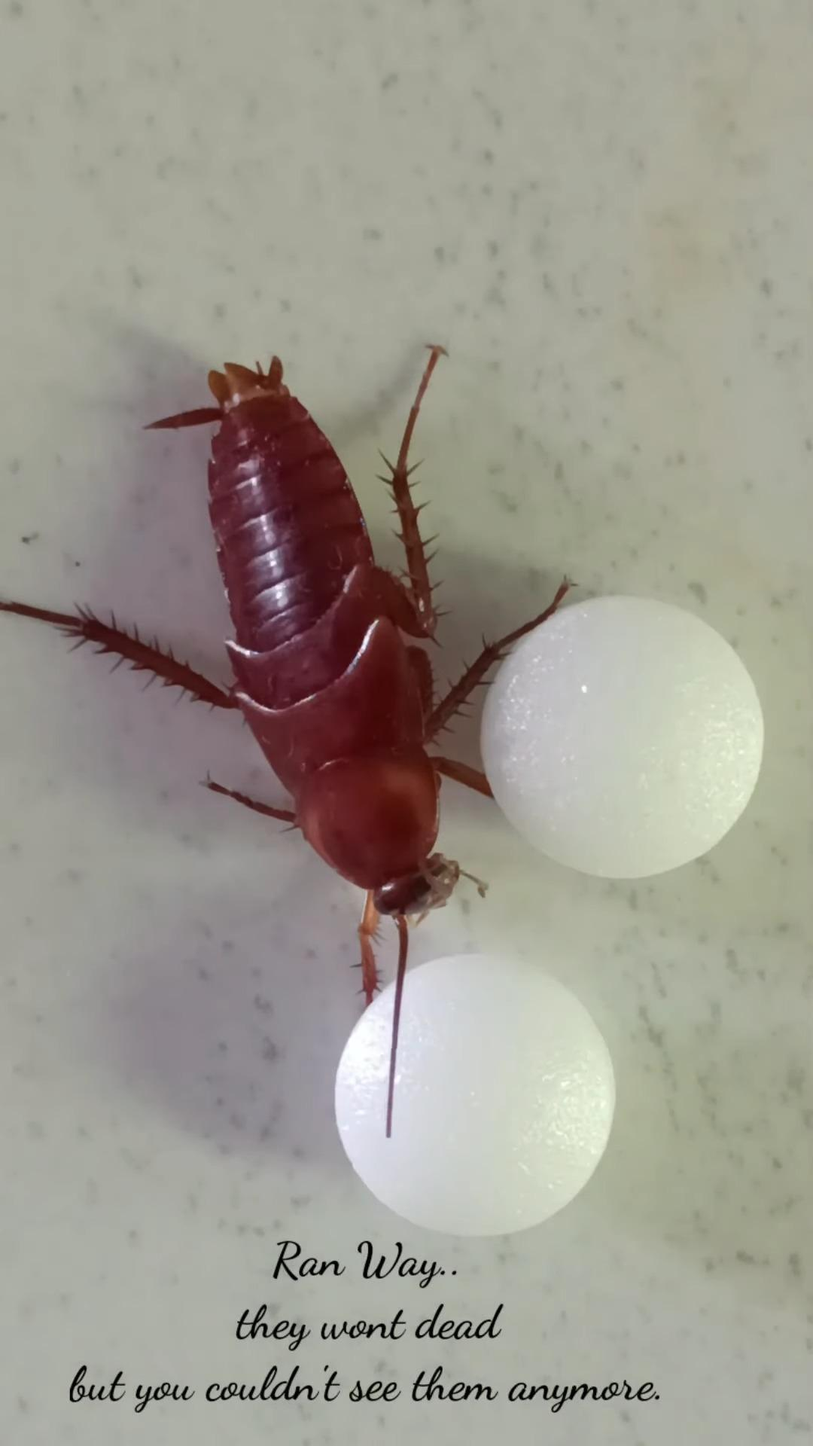cockroach: (0, 342, 484, 937)
